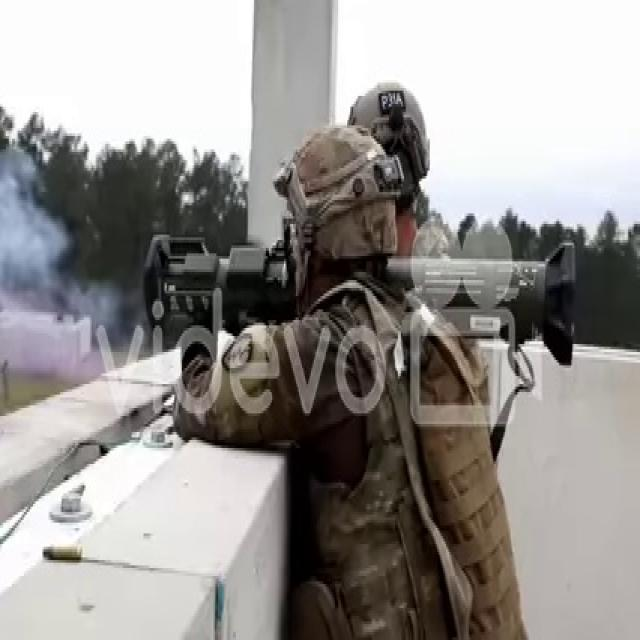bazooka: (141, 221, 583, 374)
